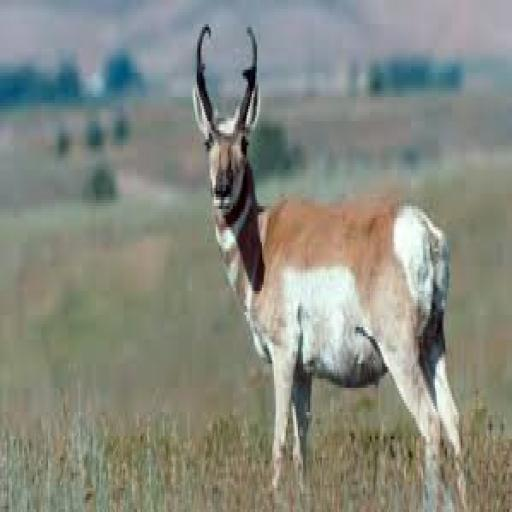antelope: (136, 10, 492, 506)
